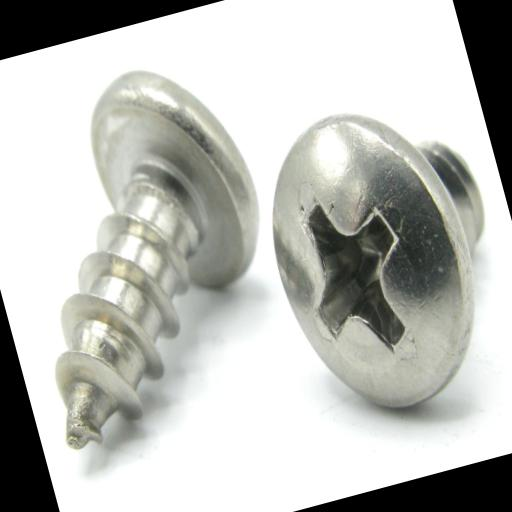Phillips: (244, 88, 504, 439)
